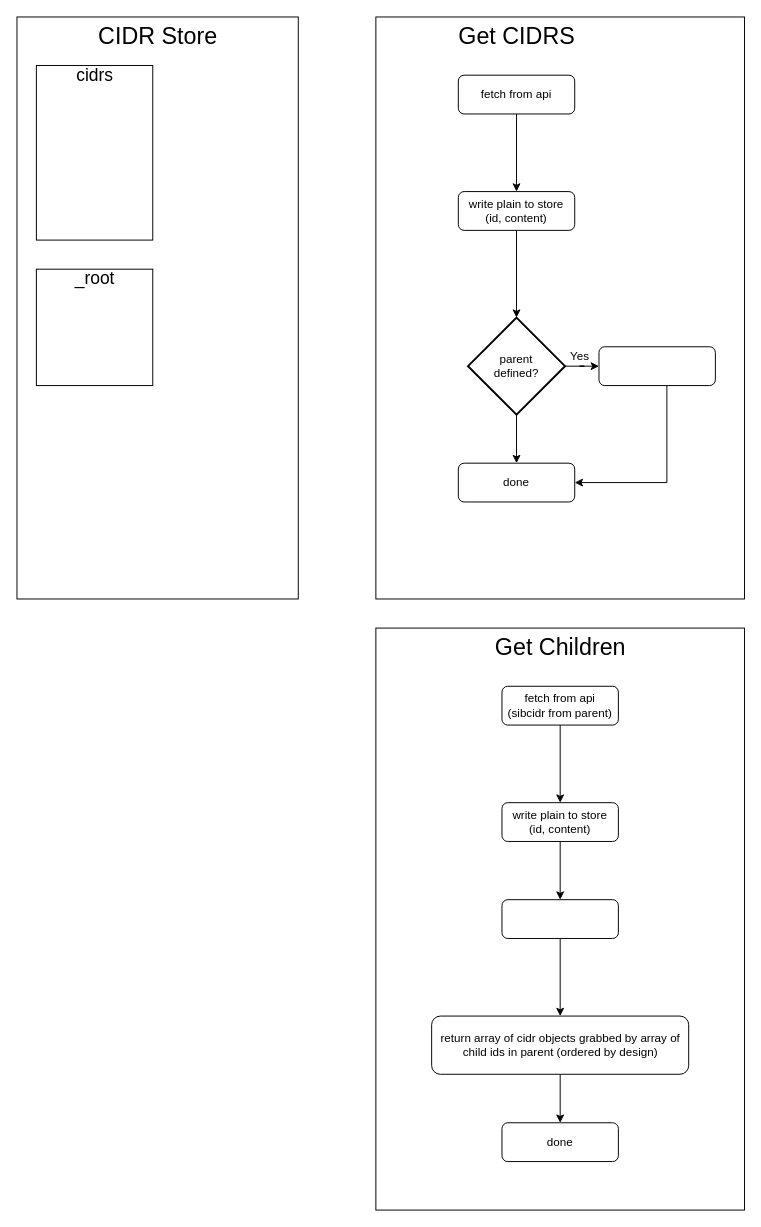
Image size: 761x1227. Some labels were removed from this diagram. Here are the shapes that lost their labels. From the top down, the box of each, then its label:
(35, 65, 153, 240): id: object, id: object, id: object, id: object, id: object, id: object, ...
(35, 268, 153, 386): set (unique) of ids of cidrs without parent
(598, 346, 715, 386): push id to _root
(501, 899, 618, 938): call get by parent id
